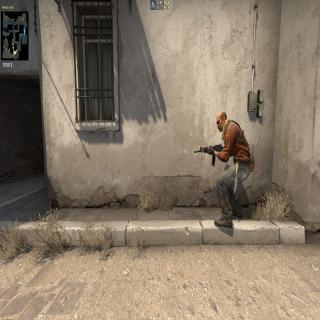T-Head: (215, 107, 227, 134)
